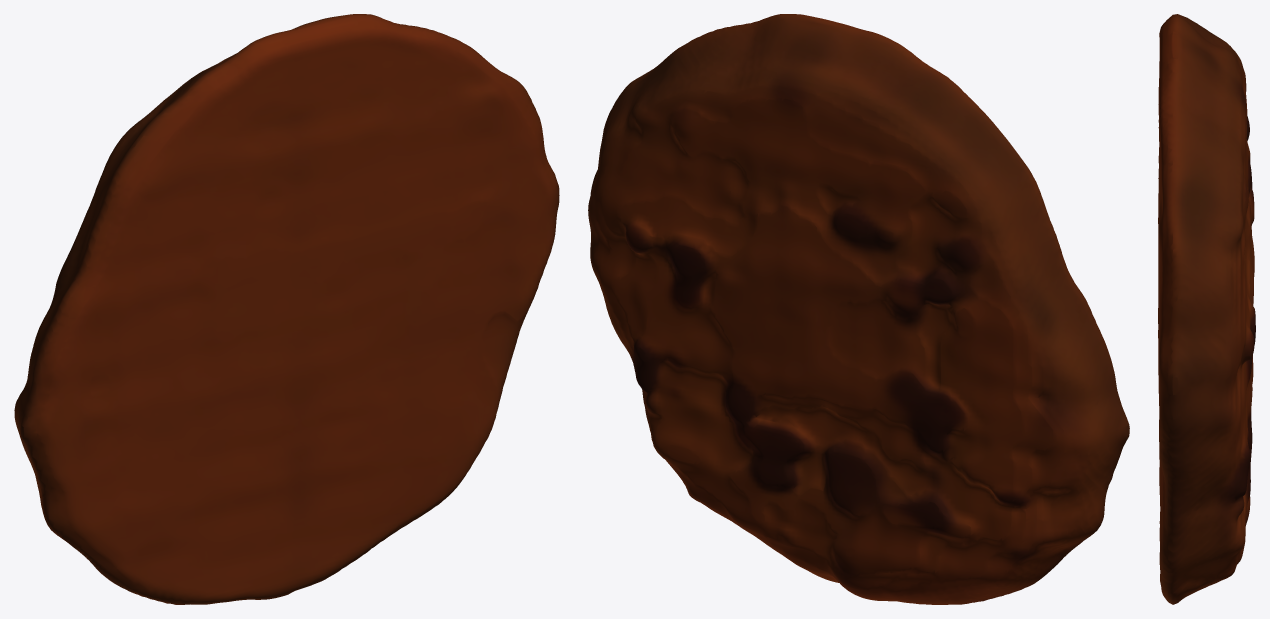
3 views of the same model, side by side, from view 1: azimuth 30°, elevation 25°; view 2: azimuth 150°, elevation 25°; view 3: azimuth 270°, elevation 25° (orthographic).
Parts seen in each view (by area): view 1: plyFile; view 2: plyFile; view 3: plyFile.
Boxes of the visible parts, bbox=[...] form: plyFile: bbox=[14, 14, 559, 604]; plyFile: bbox=[588, 14, 1129, 604]; plyFile: bbox=[1158, 14, 1255, 604].
Size of the model in its own units: 197 by 198 by 31.4.
